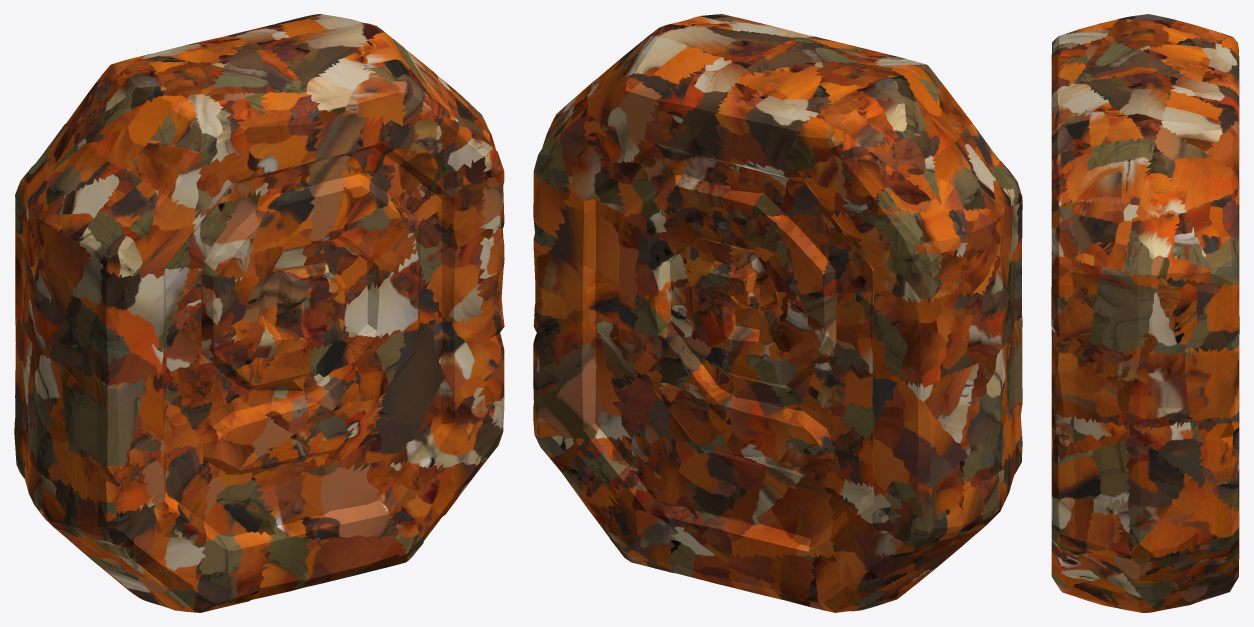
File: Gma.fbx
The picture shows the model from 3 angles, left to right: view 1: azimuth 30°, elevation 25°; view 2: azimuth 150°, elevation 25°; view 3: azimuth 270°, elevation 25°; orthographic projection. The views are drawn at different scales.
Visible parts, largest first — view 1: temp; view 2: temp; view 3: temp.
Boxes of the visible parts, bbox=[...] form: temp: bbox=[14, 14, 504, 612]; temp: bbox=[533, 14, 1022, 612]; temp: bbox=[1051, 14, 1239, 612].
Size of the model in its own units: 178 by 200 by 69.14.
